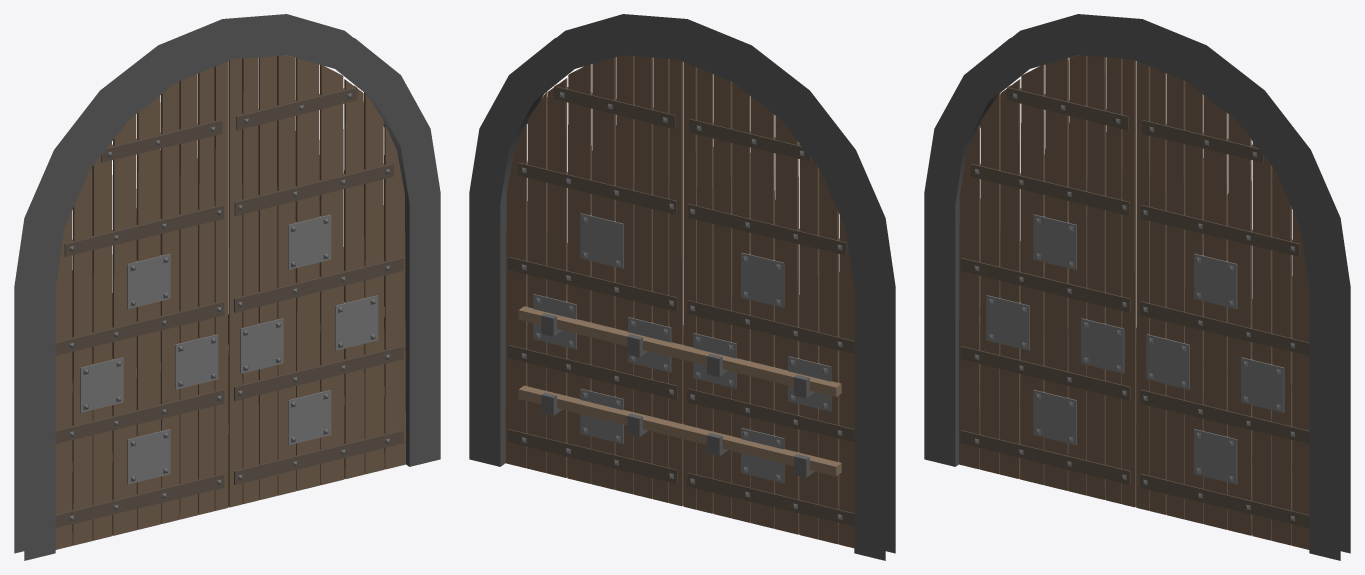
The model's file is Closed_MainGate.fbx.
The picture shows the model from 3 angles, left to right: view 1: azimuth 30°, elevation 25°; view 2: azimuth 150°, elevation 25°; view 3: azimuth 330°, elevation 25°; orthographic projection.
Parts seen in each view (by area): view 1: pCube2652; view 2: pCube2652; view 3: pCube2652.
Boxes of the visible parts, x1,y1,x2,y2 form: pCube2652: (14,14,440,560); pCube2652: (469,14,895,560); pCube2652: (924,14,1350,560).
Bounding box in the file's own units: 9.31 × 10.34 × 0.5514.
